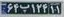1: (30, 2, 37, 14), (49, 4, 56, 15), (55, 4, 61, 15)
2: (35, 2, 43, 14)
4: (41, 2, 49, 15), (13, 3, 20, 14)
6: (6, 2, 14, 13)
پ: (20, 3, 30, 13)
